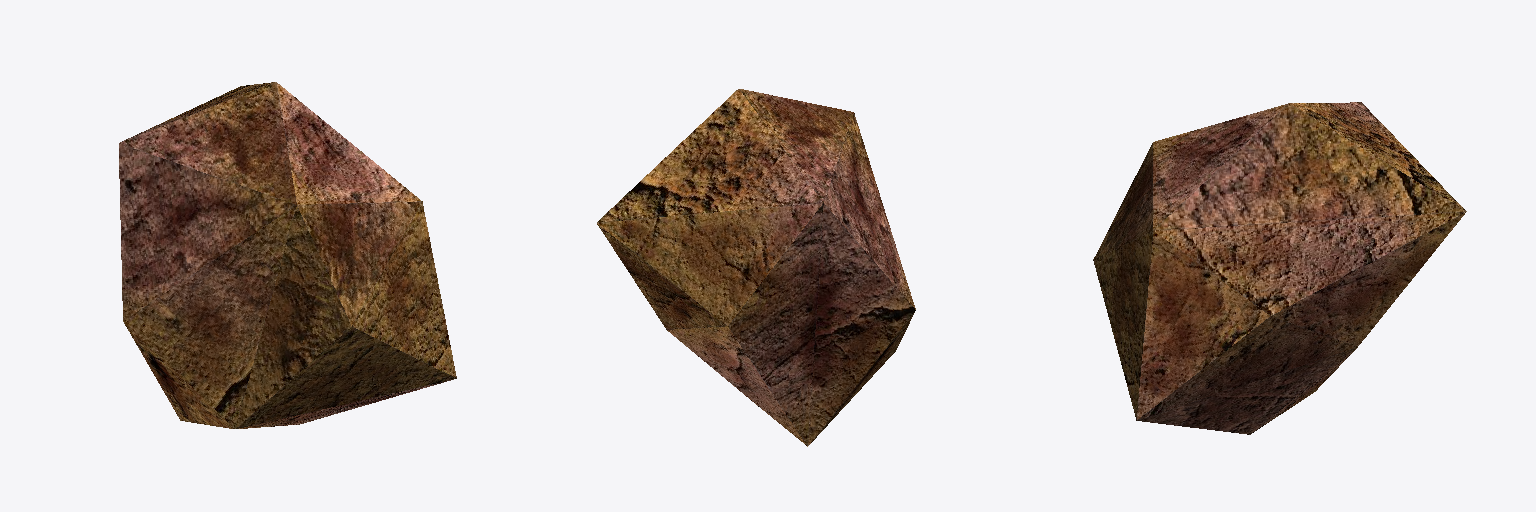
The picture shows the model from 3 angles: view 1: azimuth 30°, elevation 25°; view 2: azimuth 150°, elevation 25°; view 3: azimuth 270°, elevation 25°; orthographic projection.
Parts seen in each view (by area): view 1: Cube; view 2: Cube; view 3: Cube.
Boxes of the visible parts, x1=… form: Cube: x1=119, y1=82, x2=456, y2=428; Cube: x1=597, y1=89, x2=915, y2=446; Cube: x1=1093, y1=102, x2=1466, y2=434.
Size of the model in its own units: 4.12 by 4.62 by 4.74.
1 materials, 1 textured.